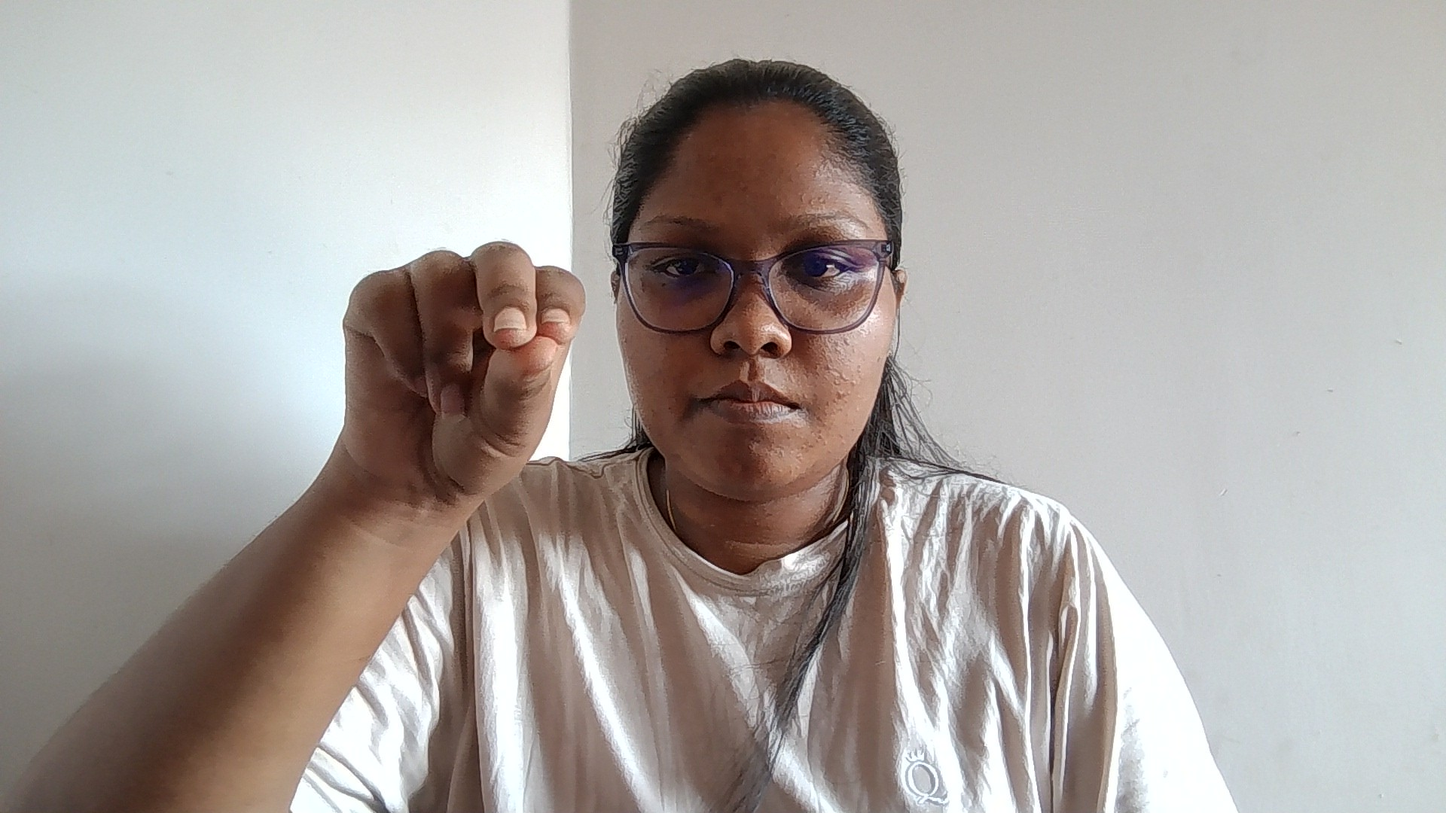No: (309, 211, 634, 611)
